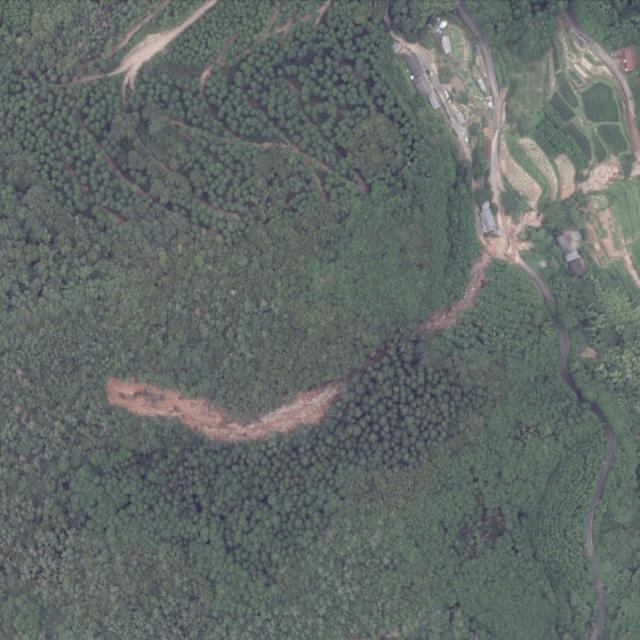landslide: (106, 377, 341, 443), (107, 0, 217, 99), (421, 251, 494, 333)
